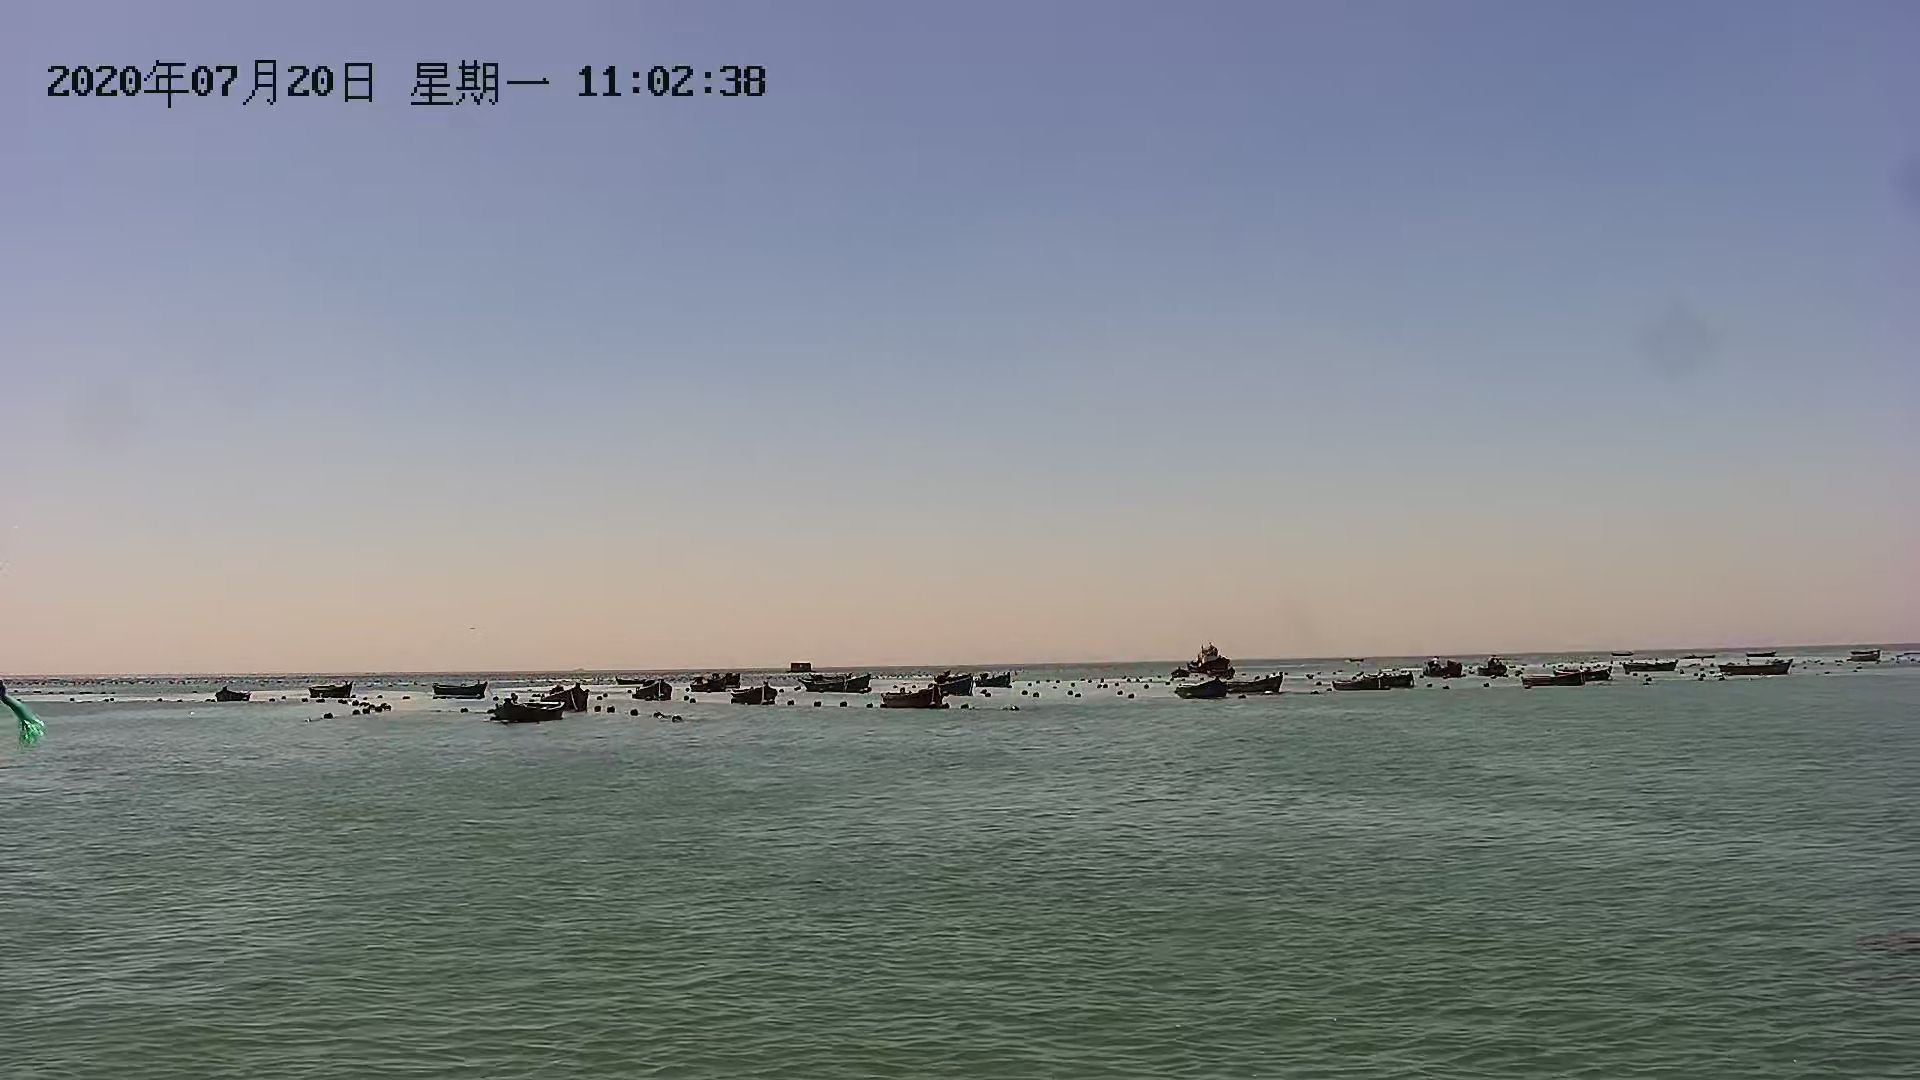boat: (487, 698, 564, 723), (877, 684, 949, 711), (1220, 673, 1286, 699), (1331, 673, 1418, 692), (796, 673, 876, 694), (1718, 659, 1797, 679), (1515, 667, 1586, 688), (430, 678, 488, 702), (690, 670, 744, 694), (1623, 655, 1680, 678), (1172, 680, 1228, 703), (306, 679, 357, 702), (1416, 658, 1466, 679), (211, 687, 255, 708), (1845, 646, 1886, 667), (934, 674, 977, 694), (733, 688, 781, 705), (632, 683, 671, 703)
ship: (1180, 640, 1234, 676)
